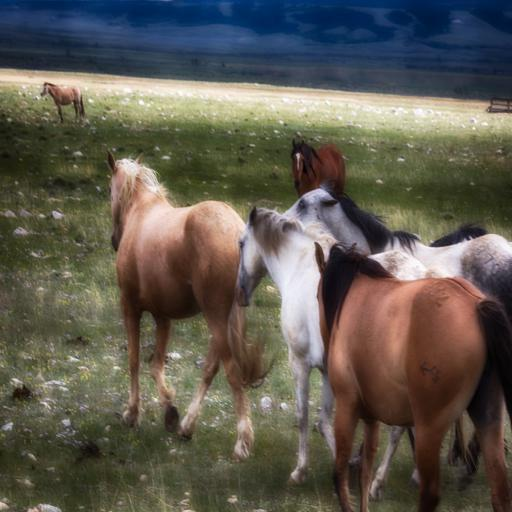horse: (234, 202, 512, 512), (276, 182, 512, 498), (106, 148, 278, 454), (290, 143, 344, 202), (37, 76, 86, 124)
